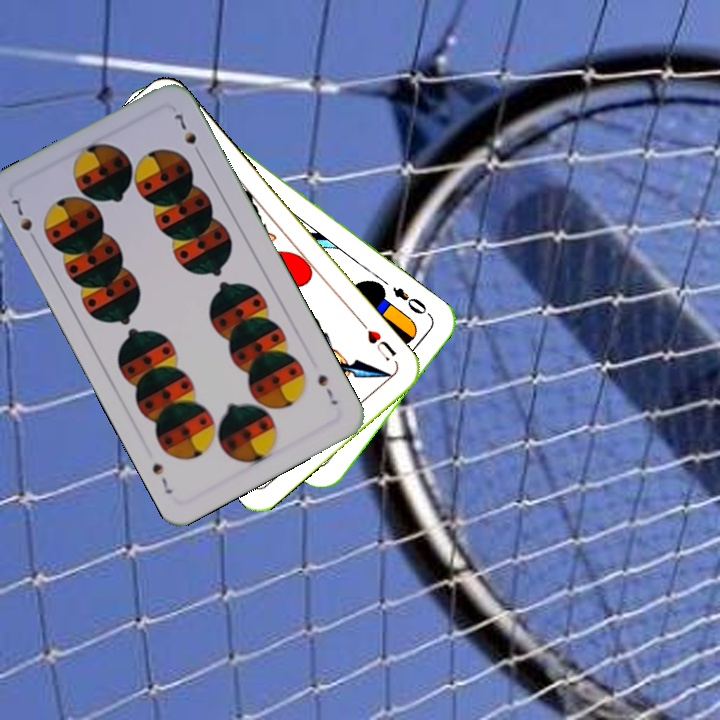EO: (388, 282, 430, 317)
HU: (363, 325, 399, 364)
S7: (6, 194, 41, 247), (314, 370, 340, 408)
